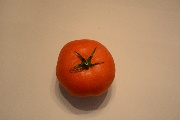tomato: (56, 39, 115, 97)
